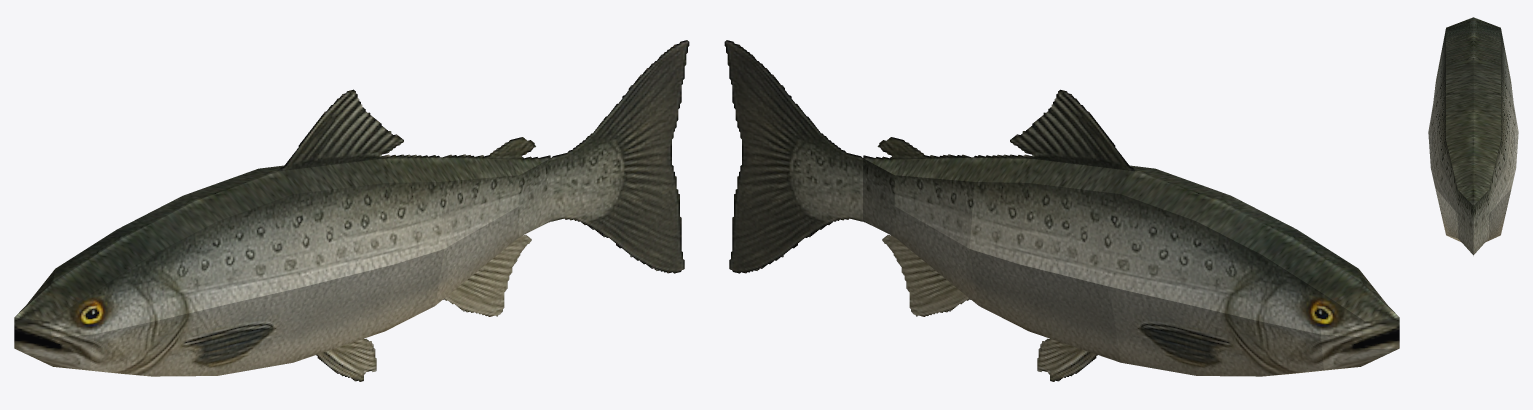
Rendered from Salmon.fbx.
The picture shows the model from 3 angles, left to right: view 1: azimuth 30°, elevation 25°; view 2: azimuth 150°, elevation 25°; view 3: azimuth 270°, elevation 25°; orthographic projection. The views are drawn at different scales.
Parts seen in each view (by area): view 1: Salmon; view 2: Salmon; view 3: Salmon.
Part boxes in pixels (x1,y1,x2,y2): Salmon: (14,40,689,381); Salmon: (724,40,1399,381); Salmon: (1428,17,1518,255).
Bounding box in the file's own units: 123 × 59.51 × 18.09.
